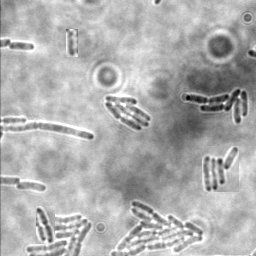Dividing: (1, 123, 95, 142), (36, 206, 55, 244), (8, 41, 35, 52)
Microcolony: (109, 200, 205, 255), (25, 212, 94, 255), (184, 89, 248, 126), (202, 146, 239, 192), (103, 96, 150, 132), (16, 182, 48, 193)
Rod: (66, 29, 78, 57)
